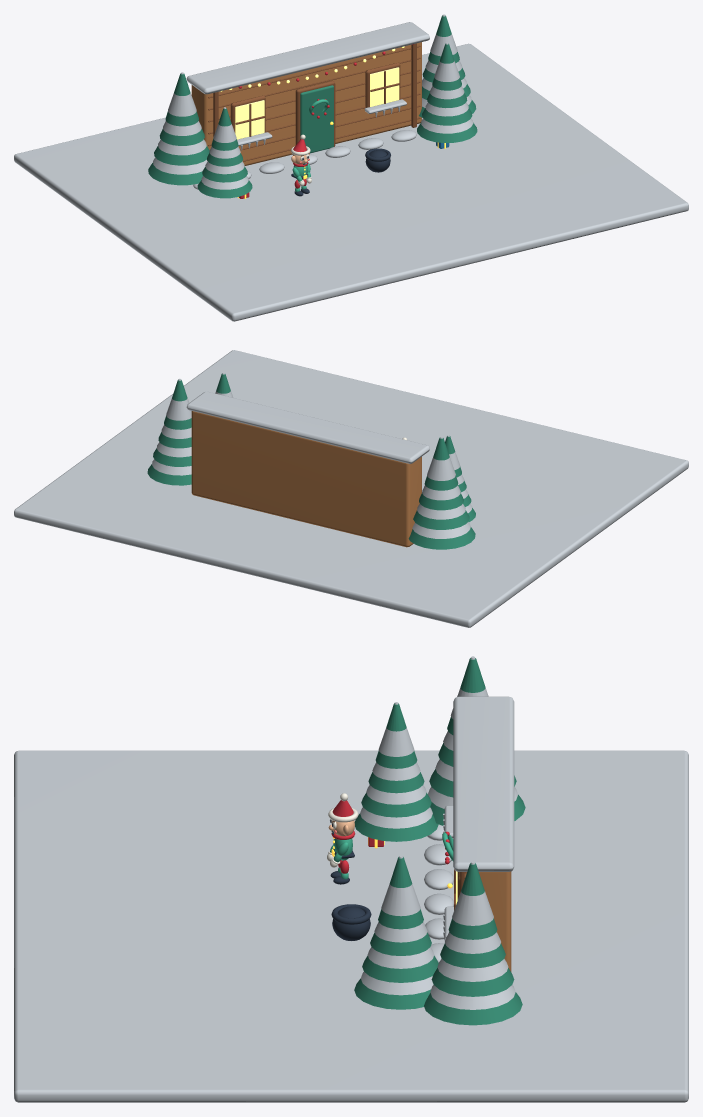
File: chapter-08.glb
The picture shows the model from 3 angles, top to bottom: view 1: azimuth 30°, elevation 25°; view 2: azimuth 150°, elevation 25°; view 3: azimuth 270°, elevation 25°; orthographic projection. The views are drawn at different scales.
Visible parts, largest first — view 1: Schneeboden, Werkstatt, Schneegesims, Wichteltür, Warmes Fenster, Warmes Fenster.001, Tannenzweig.004, Tannenzweig.008, Tannenzweig.009, Türrahmen, Tannenzweig.011, Schnee.011 (+7 smaller); view 2: Schneeboden, Werkstatt, Schneegesims, Tannenzweig.008, Tannenzweig.009, Tannenzweig.011, Schnee.008, Schnee.011, Tannenzweig.015, Tannenzweig.012, Tannenzweig.010, Schnee.009 (+1 smaller); view 3: Schneeboden, Schneegesims, Werkstatt, Tannenzweig.012, Tannenzweig.013, Tannenzweig.015, Tannenzweig, Schnee.012, Tannenzweig.005, Tannenzweig.004, Schnee.015, Tannenzweig.007 (+16 smaller).
Boxes of the visible parts, x1,y1,x2,y2 form: Schneeboden: (14,43,688,321); Werkstatt: (191,42,421,165); Schneegesims: (186,22,429,94); Wichteltür: (300,85,333,153); Warmes Fenster: (235,100,264,139); Warmes Fenster.001: (370,67,399,106); Tannenzweig.004: (417,122,477,142); Tannenzweig.008: (148,163,202,185); Tannenzweig.009: (154,146,209,165); Türrahmen: (295,81,335,146); Tannenzweig.011: (165,73,198,126); Schnee.011: (168,72,196,116); Schneeboden: (14,350,688,627); Werkstatt: (191,411,421,547); Schneegesims: (186,391,429,463); Tannenzweig.008: (408,527,475,549); Tannenzweig.009: (413,510,469,529); Tannenzweig.011: (424,437,458,490); Schnee.008: (412,522,470,538); Schnee.011: (427,436,455,480); Tannenzweig.015: (164,380,191,429); Tannenzweig.012: (147,464,191,485); Tannenzweig.010: (419,493,463,510); Schnee.009: (417,504,465,519); Schneeboden: (14,750,688,1102); Schneegesims: (453,696,514,871); Werkstatt: (466,871,511,971); Tannenzweig.012: (424,992,522,1025); Tannenzweig.013: (431,968,514,996); Tannenzweig.015: (448,863,497,939); Tannenzweig: (354,813,438,841); Schnee.012: (430,985,515,1009); Tannenzweig.005: (362,955,438,982); Tannenzweig.004: (354,978,430,1009); Schnee.015: (452,861,493,925); Tannenzweig.007: (378,857,423,929).
Bounding box in the file's own units: 18 × 4.39 × 15.
